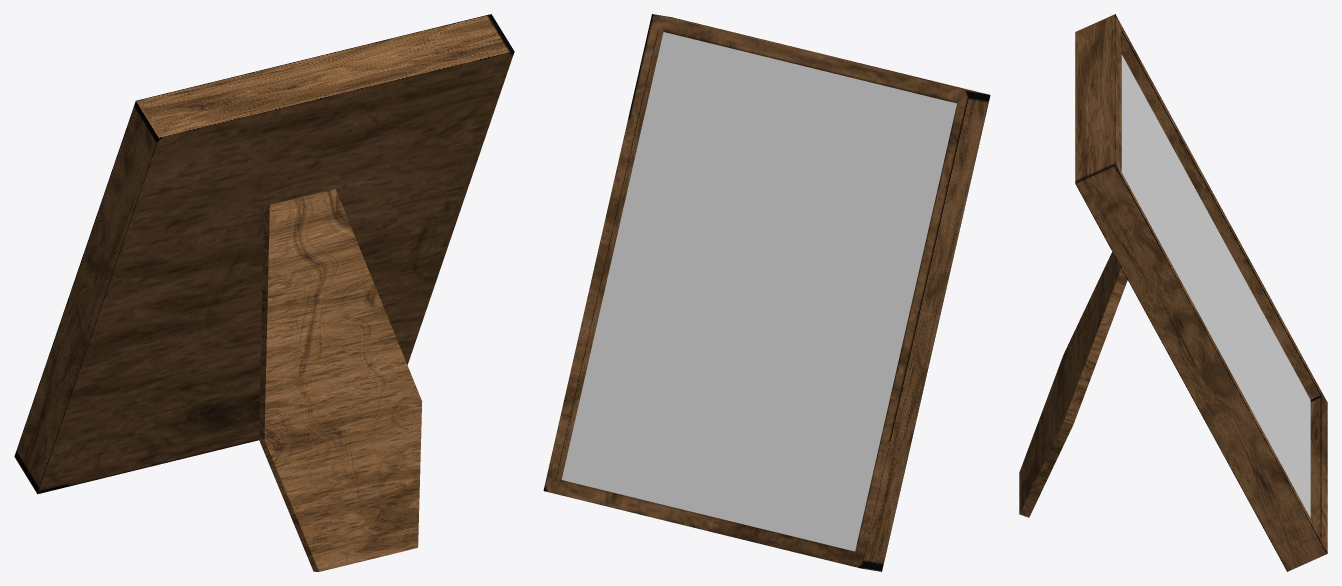
The model's file is mirror.glb.
3 renders of one model, left to right at view 1: azimuth 30°, elevation 25°; view 2: azimuth 150°, elevation 25°; view 3: azimuth 270°, elevation 25°, orthographic. The views are drawn at different scales.
Visible parts, largest first — view 1: Cube, Plane.001; view 2: Plane, Cube; view 3: Cube, Plane, Plane.001.
Boxes of the visible parts, x1,y1,x2,y2 form: Cube: (14,14,514,494); Plane.001: (259,188,422,571); Plane: (561,32,956,551); Cube: (543,14,990,571); Cube: (1075,14,1327,571); Plane: (1121,54,1310,517); Plane.001: (1019,252,1127,517).
Bounding box in the file's own units: 1.6 × 2 × 1.37.
Materials: 3 (2 with a texture image).
